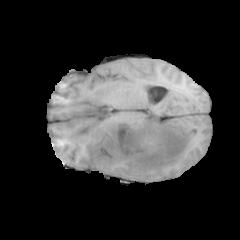glioma: (65, 100, 195, 173)
